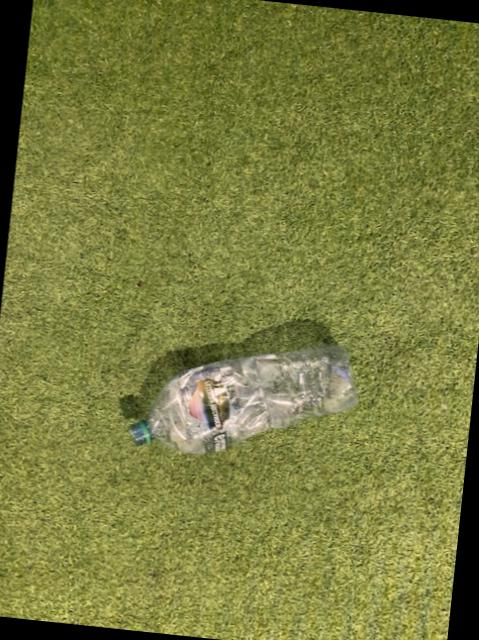plastic: (128, 348, 355, 455)
